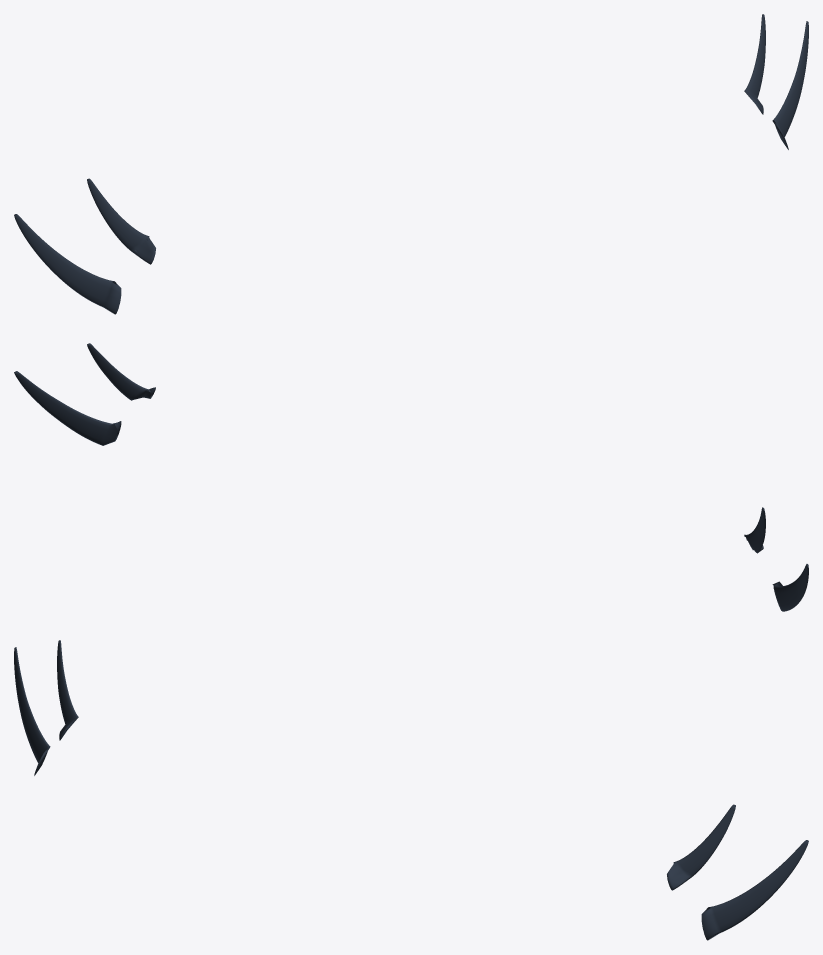
File: Feminine-Feminine-original-lashes-5d67b354.glb
3 views of the same model, one above another, from view 1: azimuth 30°, elevation 25°; view 2: azimuth 150°, elevation 25°; view 3: azimuth 330°, elevation 25° (orthographic).
Parts seen in each view (by area): view 1: 226 eyelashes / Lashes / charcoal234; view 2: 226 eyelashes / Lashes / charcoal234; view 3: 226 eyelashes / Lashes / charcoal234.
Boxes of the visible parts, box(x1,y1,x2,y2) form: 226 eyelashes / Lashes / charcoal234: box(14, 14, 808, 314); 226 eyelashes / Lashes / charcoal234: box(14, 343, 808, 611); 226 eyelashes / Lashes / charcoal234: box(14, 640, 808, 940).
Bounding box in the file's own units: 0.4083 × 0.0574 × 0.0417.
